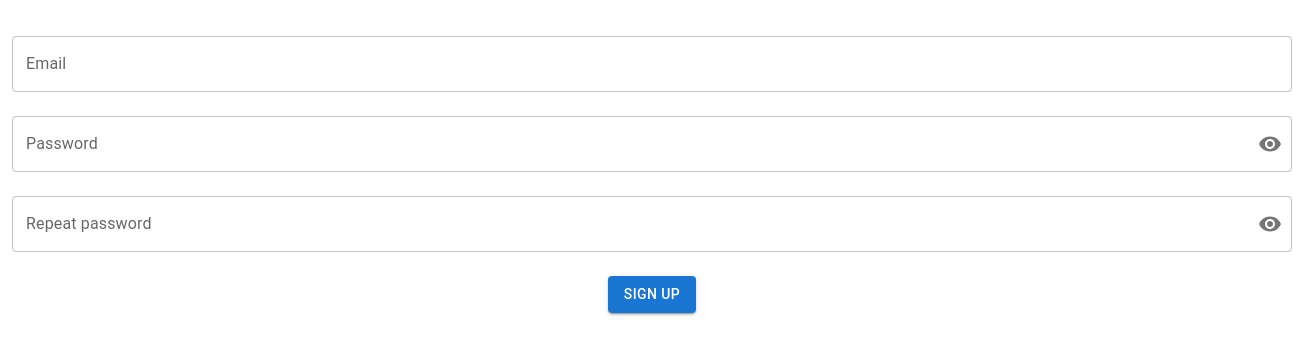
Test case: should render form error message when signup button is clicked › should render an error message if at least one field is invalid
This screenshot has width=1304, height=357.
Step 1. Type "helloworld.com" into the field labelled "Email" → (652, 64), box x1=12 y1=36 x2=1292 y2=92
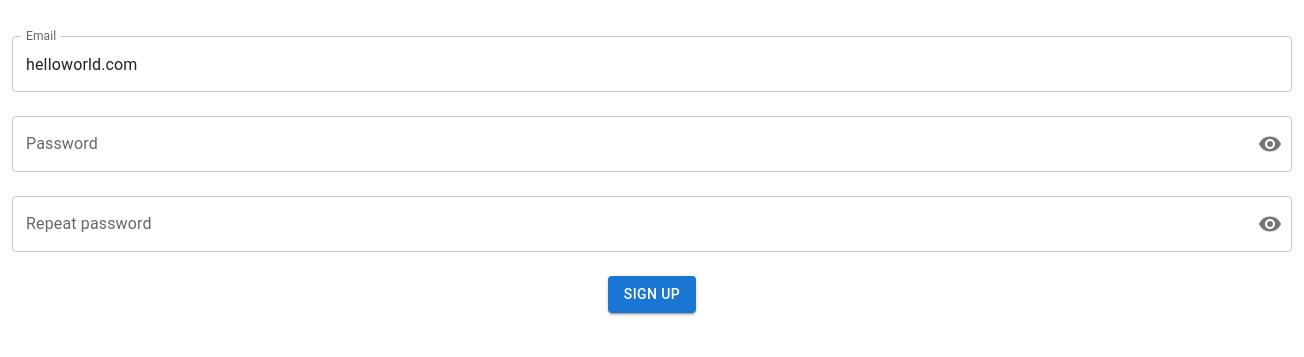
Step 2. Type "123Gh@jeproFt" into the password field labelled "Password" → (627, 144), box x1=12 y1=116 x2=1242 y2=172
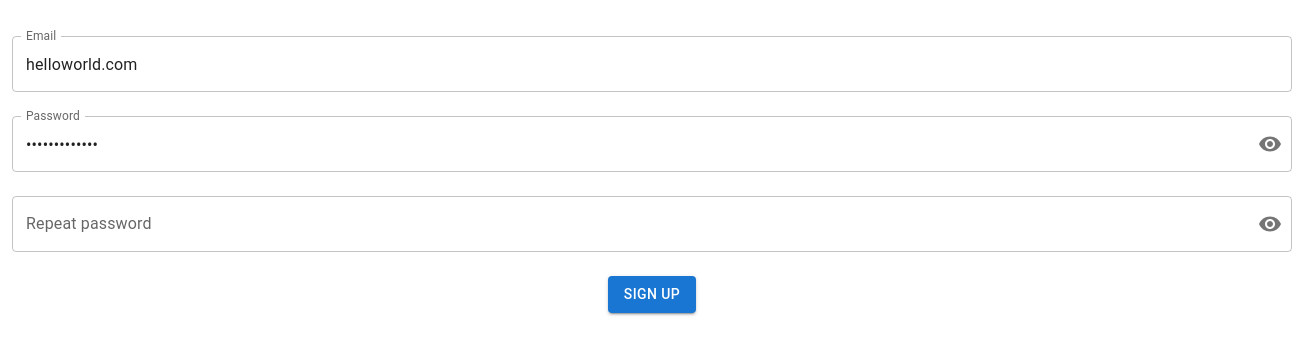
Step 3. Type "123Gh@jeproFt" into the password field labelled "Repeat" → (627, 224), box x1=12 y1=196 x2=1242 y2=252
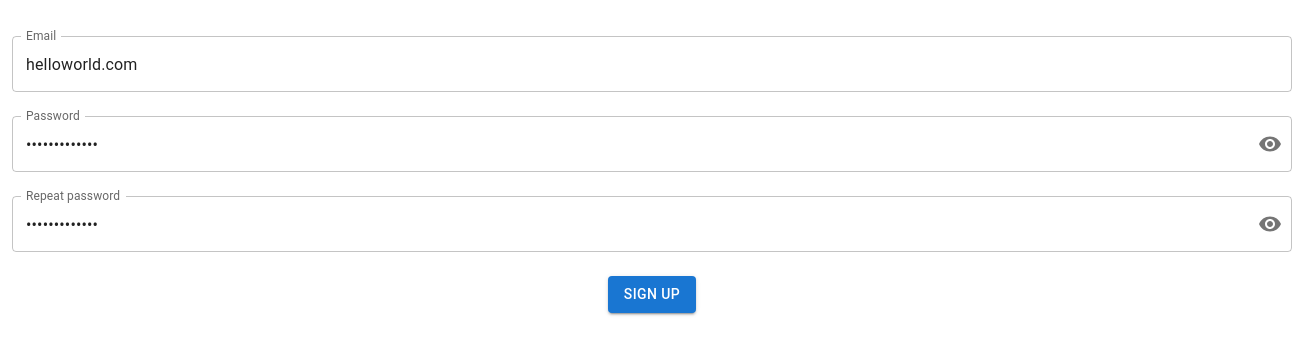
Step 4. Click the button titled "signup" → (652, 294), box x1=608 y1=276 x2=696 y2=312
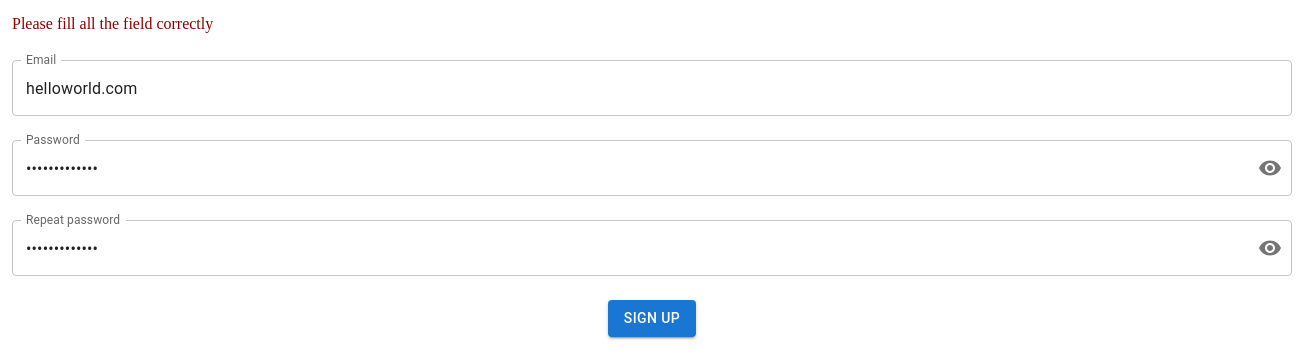
Expected: the element titled "error-form" is shown, x1=12 y1=15 x2=213 y2=32
